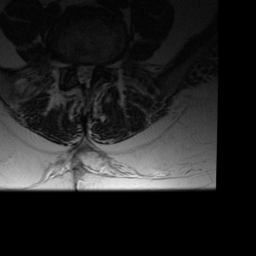CCS_normal: (82, 59, 88, 90)
LFS_severe_stenosis: (95, 58, 103, 77)
LLS_normal: (88, 59, 95, 78)
RFS_severe_stenosis: (68, 59, 76, 75)
RLS_stenosis: (75, 59, 82, 84)
